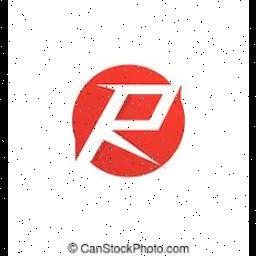r: (77, 74, 179, 172)
